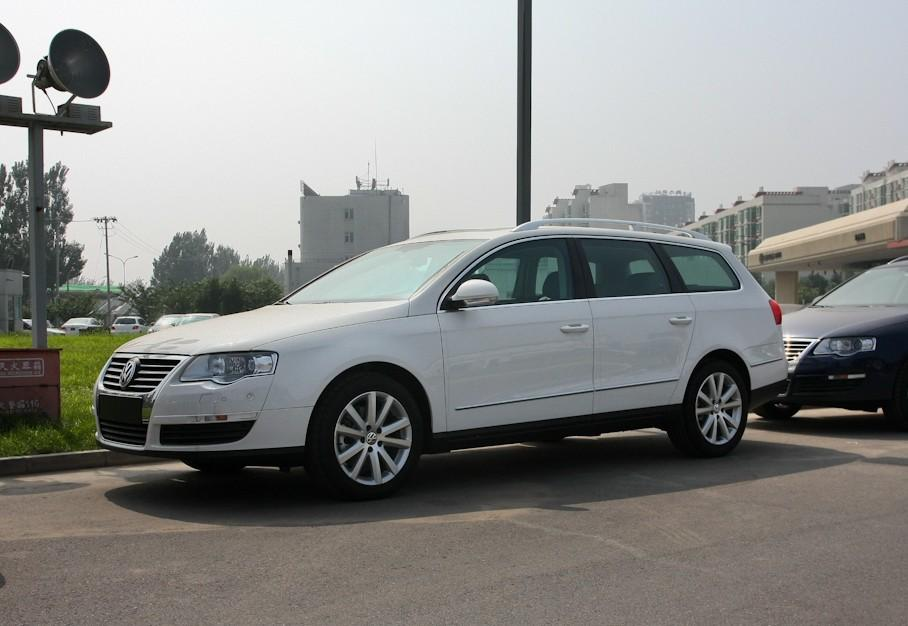Wagon: (92, 225, 792, 505)
